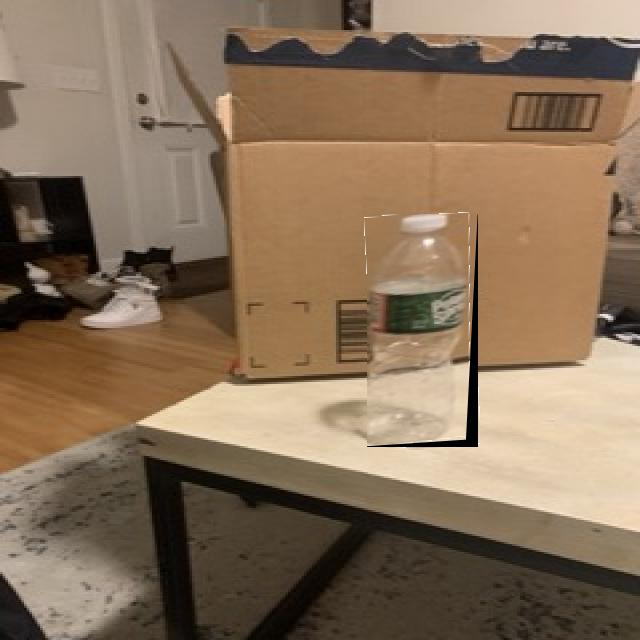water_bottle: (367, 214, 478, 447)
